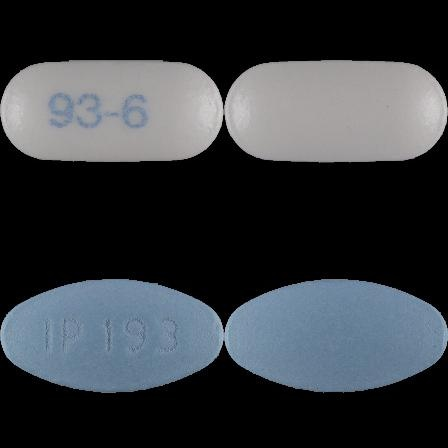33261-083: (0, 0, 224, 224)
